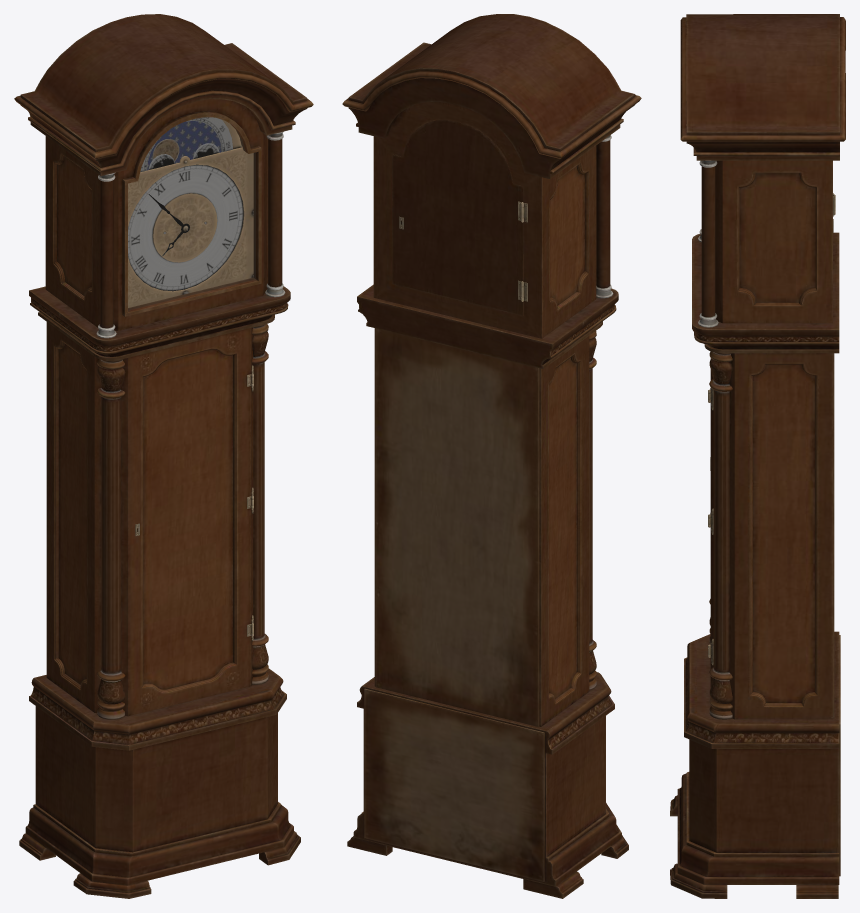
Rendered from vintage_grandfather_clock_01.glb.
The picture shows the model from 3 angles, left to right: view 1: azimuth 30°, elevation 25°; view 2: azimuth 150°, elevation 25°; view 3: azimuth 270°, elevation 25°; orthographic projection. The views are drawn at different scales.
Visible parts, largest first — view 1: vintage_grandfather_clock_01_Body; view 2: vintage_grandfather_clock_01_Body; view 3: vintage_grandfather_clock_01_Body.
Part boxes in pixels (box(x1,y1,x2,y2)): vintage_grandfather_clock_01_Body: box(14, 14, 313, 898); vintage_grandfather_clock_01_Body: box(342, 14, 641, 898); vintage_grandfather_clock_01_Body: box(670, 14, 845, 898).
Size of the model in its own units: 0.6256 by 2.19 by 0.4267.
Materials: 2 (1 with a texture image).
